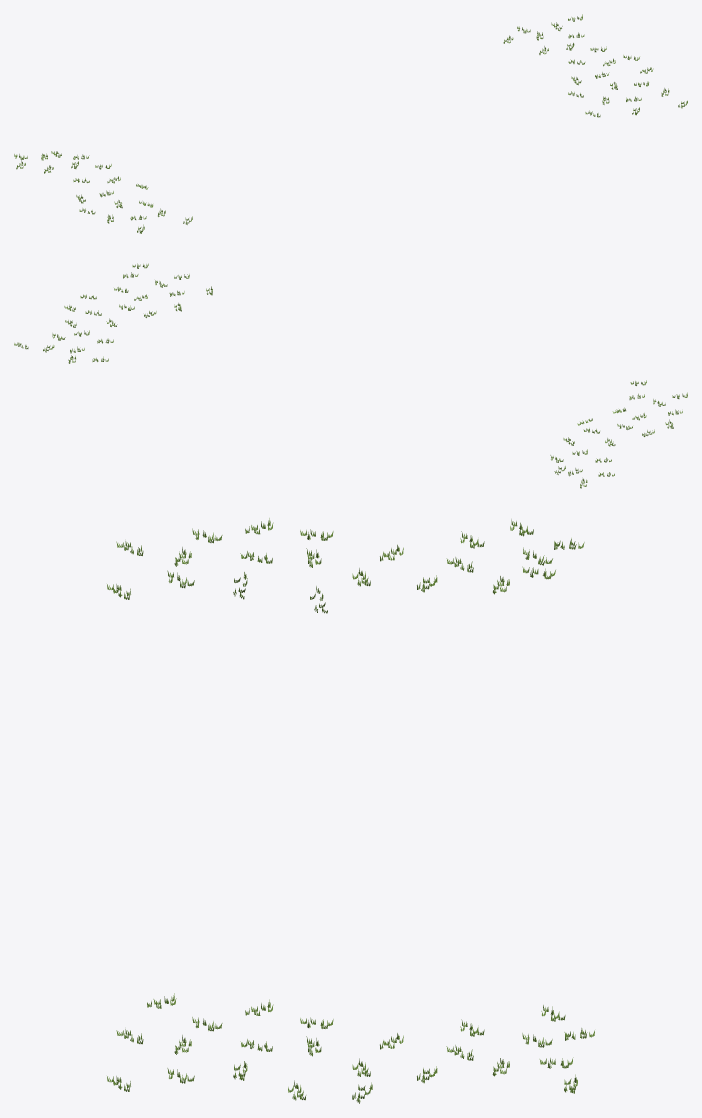
Rendered from CUSTOM_GRASS.fbx.
3 renders of one model, top to bottom at view 1: azimuth 30°, elevation 25°; view 2: azimuth 150°, elevation 25°; view 3: azimuth 270°, elevation 25°, orthographic. The views are drawn at different scales.
Parts seen in each view (by area): view 1: Grass2.053; view 2: Grass2.053; view 3: Grass2.053.
Boxes of the visible parts, bbox=[...] form: Grass2.053: bbox=[14, 14, 687, 233]; Grass2.053: bbox=[14, 263, 687, 488]; Grass2.053: bbox=[107, 518, 594, 1103].
Size of the model in its own units: 38613 by 576 by 13944.
